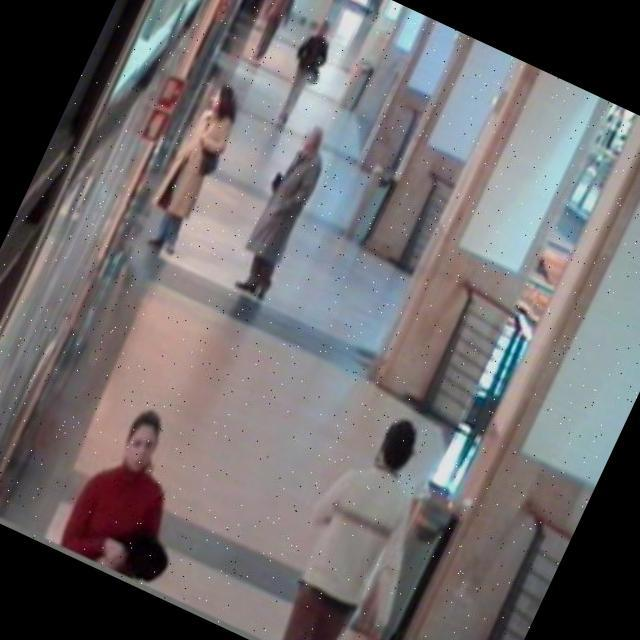person: (242, 384, 483, 640), (41, 377, 248, 602), (118, 70, 255, 278), (222, 112, 353, 314), (253, 0, 351, 144), (238, 0, 315, 69)
